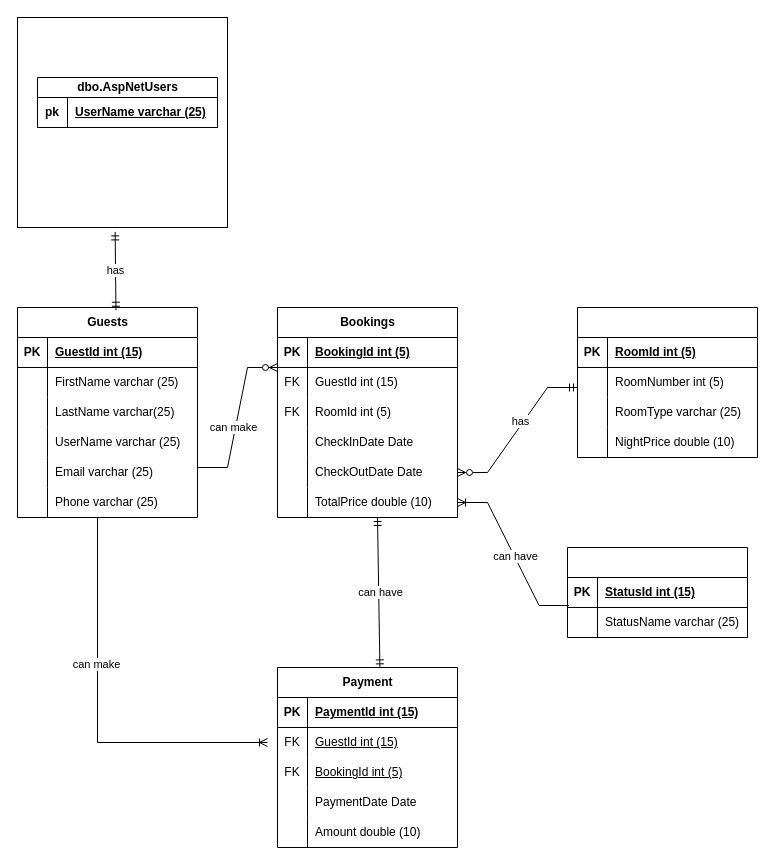
This 775x865 diagram has some shape labels left out. Here are the shapes that lost their labels. From the top down, the box of each, then its label:
(576, 306, 758, 458): Rooms
(566, 546, 748, 638): Booking Status
